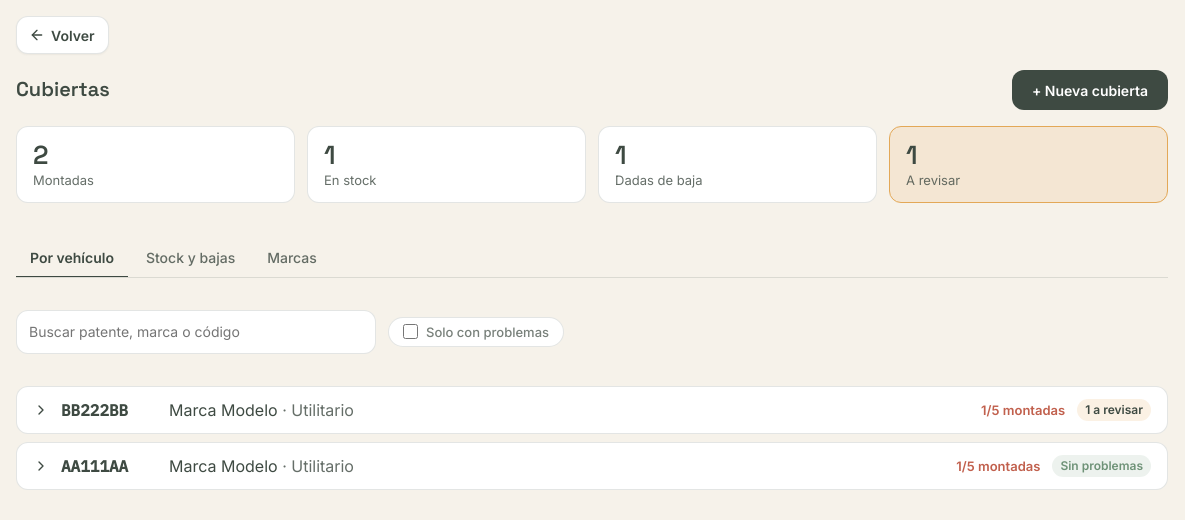
inventario de cubiertas (CAM-157) › las marcas van en su propia vista, de la más barata por km a la más cara
Expected: the text "Costo por km por marca" is not shown
Click the tab "Marcas": {"x": 292, "y": 258} x1=253 y1=239 x2=331 y2=278
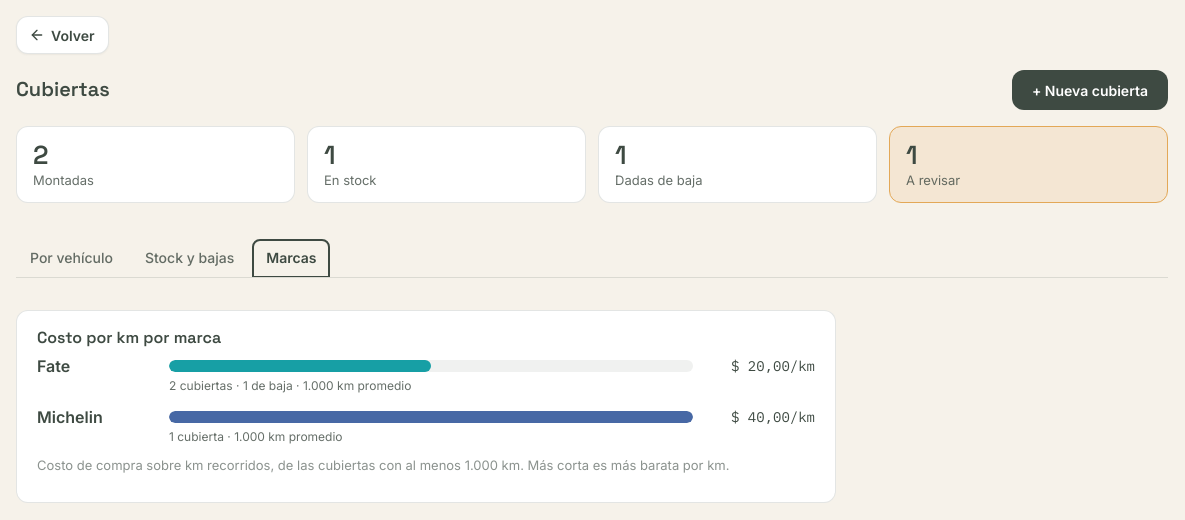
Expected: the list item "Fate $ 20,00/km 2 cubiertas · 1 de baja · 1.000 km promedio" is shown, x1=37 y1=356 x2=815 y2=393
Expected: the list item "Michelin $ 40,00/km 1 cubierta · 1.000 km promedio" is shown, x1=37 y1=407 x2=815 y2=444
